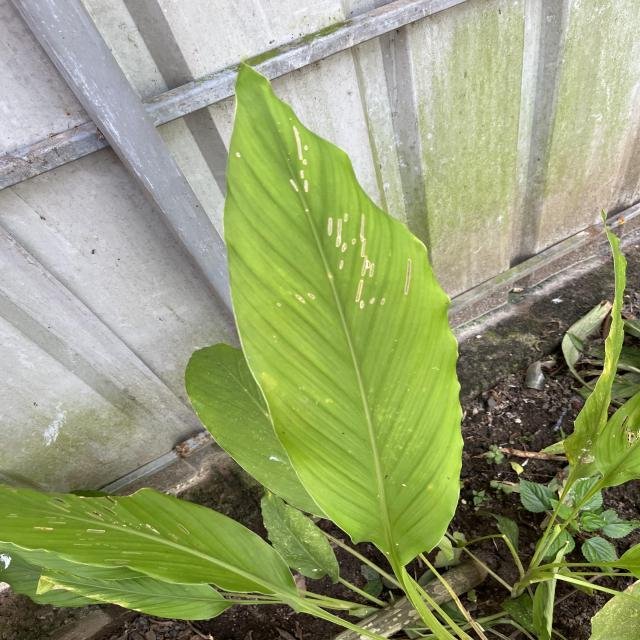Curcuma longa: (216, 46, 475, 575)
